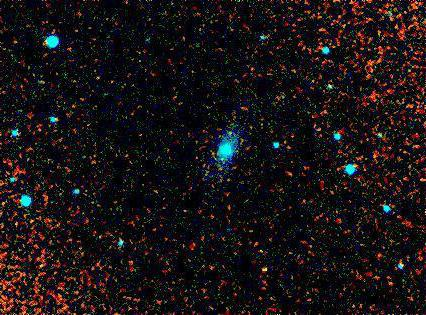star: (248, 253, 278, 283)
